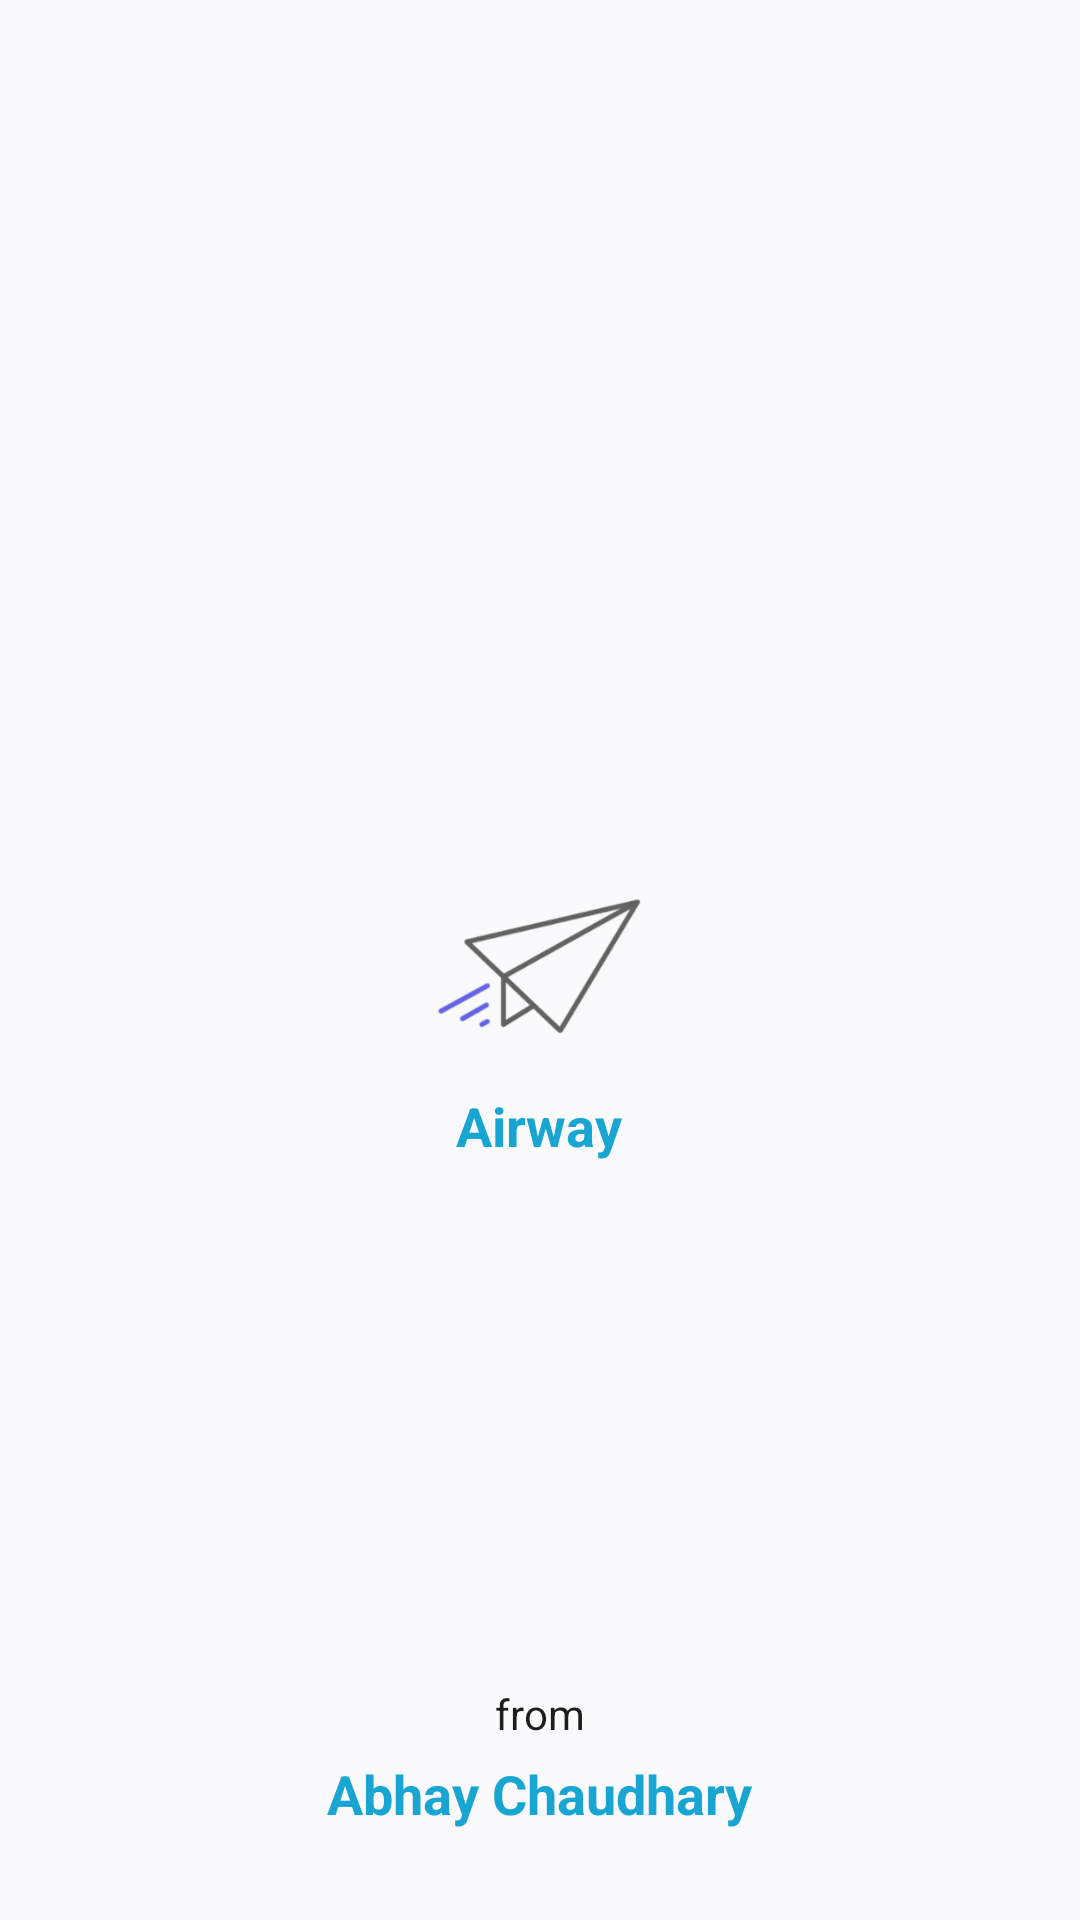

Icon click points for this 1080*1920 phone screenshot, format (x=x, y=y):
aero: (x=539, y=966)
